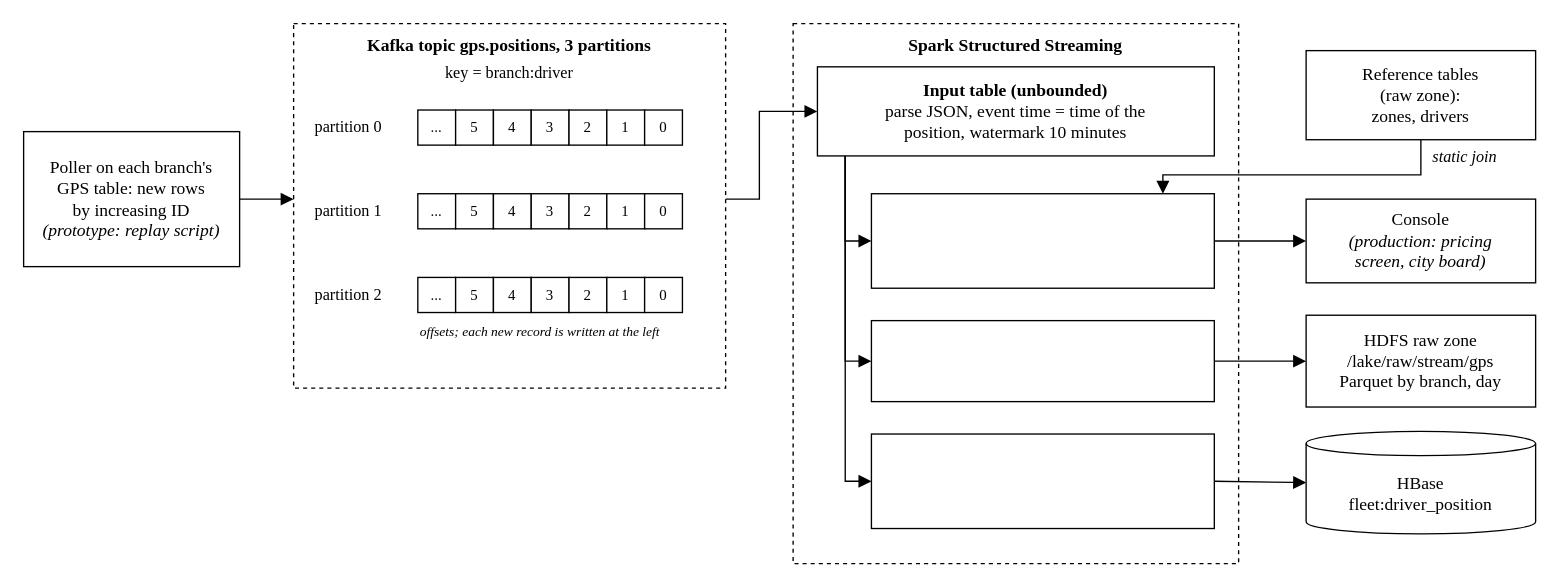
The diagram is 1562 pixels wide and 587 high, and some of its shapes have lost their labels. The shapes that lost their labels are listed below. From the top down, each one's centre as x and y in pixels, then its label:
At point (1042, 240): "A. Supply board free and busy cars per zone, 5-minute windows".
At point (1042, 360): "B. Raw landing append every position".
At point (1042, 481): "C. Latest position last point per vehicle in each micro-batch (foreachBatch)".
